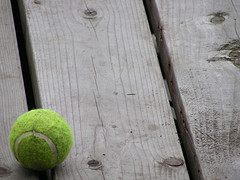tennis ball: (10, 106, 73, 171)
